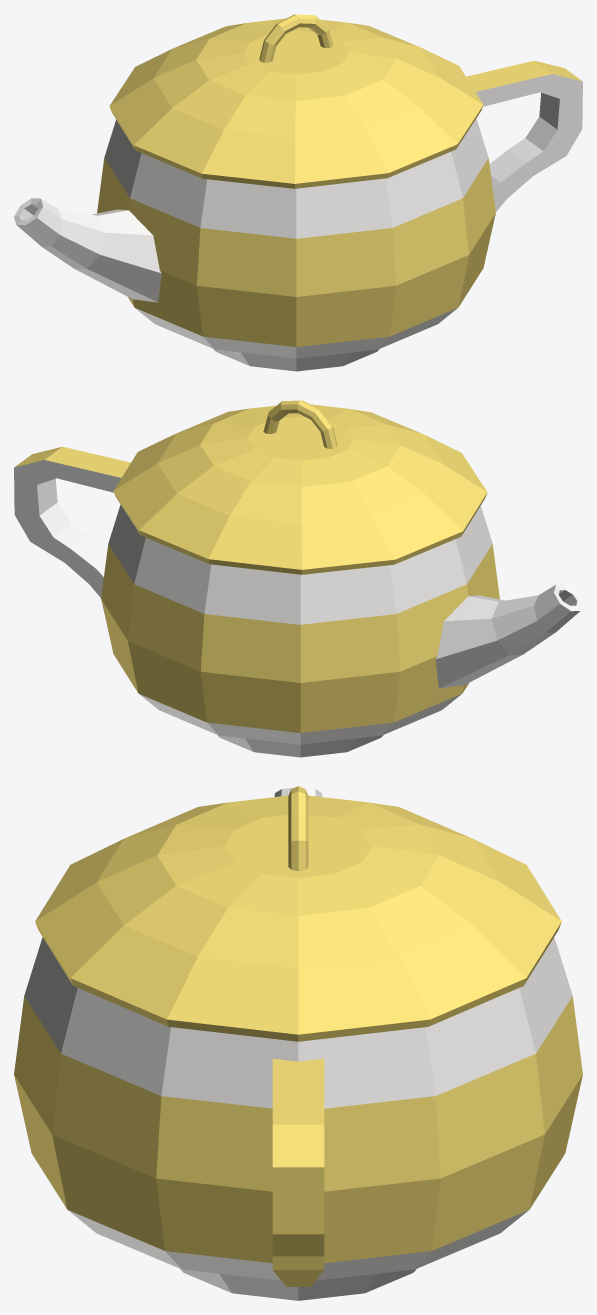
Rendered from Teapot_1.fbx.
3 renders of one model, top to bottom at view 1: azimuth 30°, elevation 25°; view 2: azimuth 150°, elevation 25°; view 3: azimuth 270°, elevation 25°, orthographic. The views are drawn at different scales.
Visible parts, largest first — view 1: Teapot_1; view 2: Teapot_1; view 3: Teapot_1.
Boxes of the visible parts, x1,y1,x2,y2 form: Teapot_1: [14, 14, 582, 371]; Teapot_1: [14, 400, 582, 757]; Teapot_1: [14, 786, 582, 1300].
Size of the model in its own units: 16.14 by 10 by 8.79.
